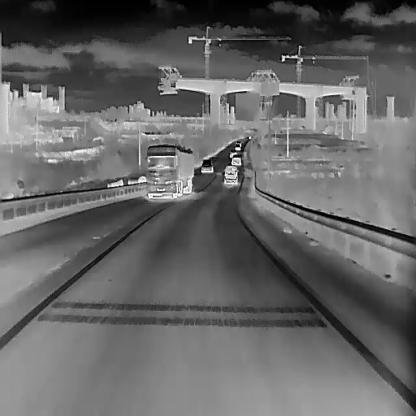car: (224, 165, 236, 184), (201, 158, 213, 172), (231, 153, 241, 165), (229, 149, 236, 157), (234, 142, 240, 150)
truck: (146, 142, 194, 198)
